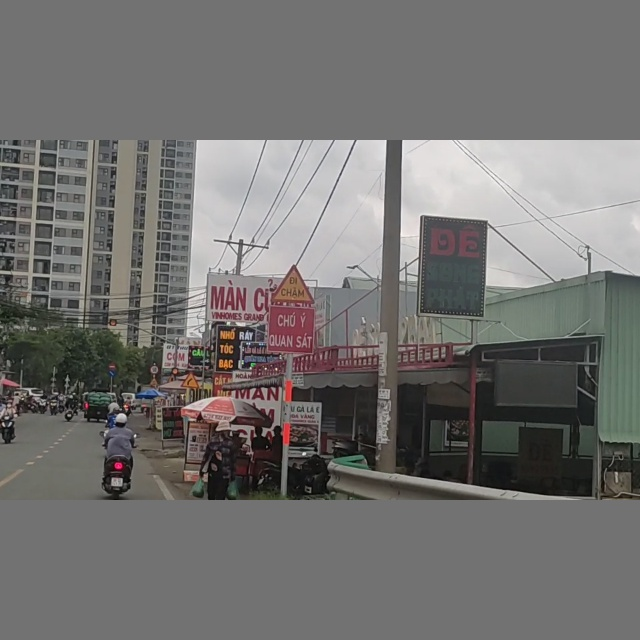W.201b: (180, 371, 201, 389)
W.245a: (269, 263, 317, 305)
